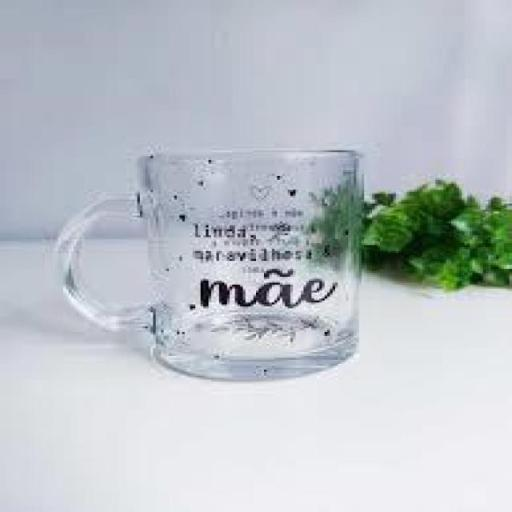glass: (47, 138, 393, 394)
